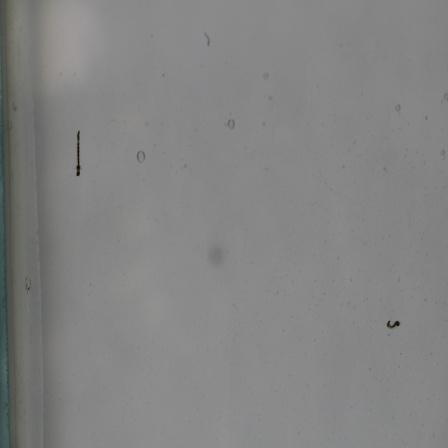Jentik-Nyamuk: (72, 126, 83, 183), (383, 317, 402, 332)
